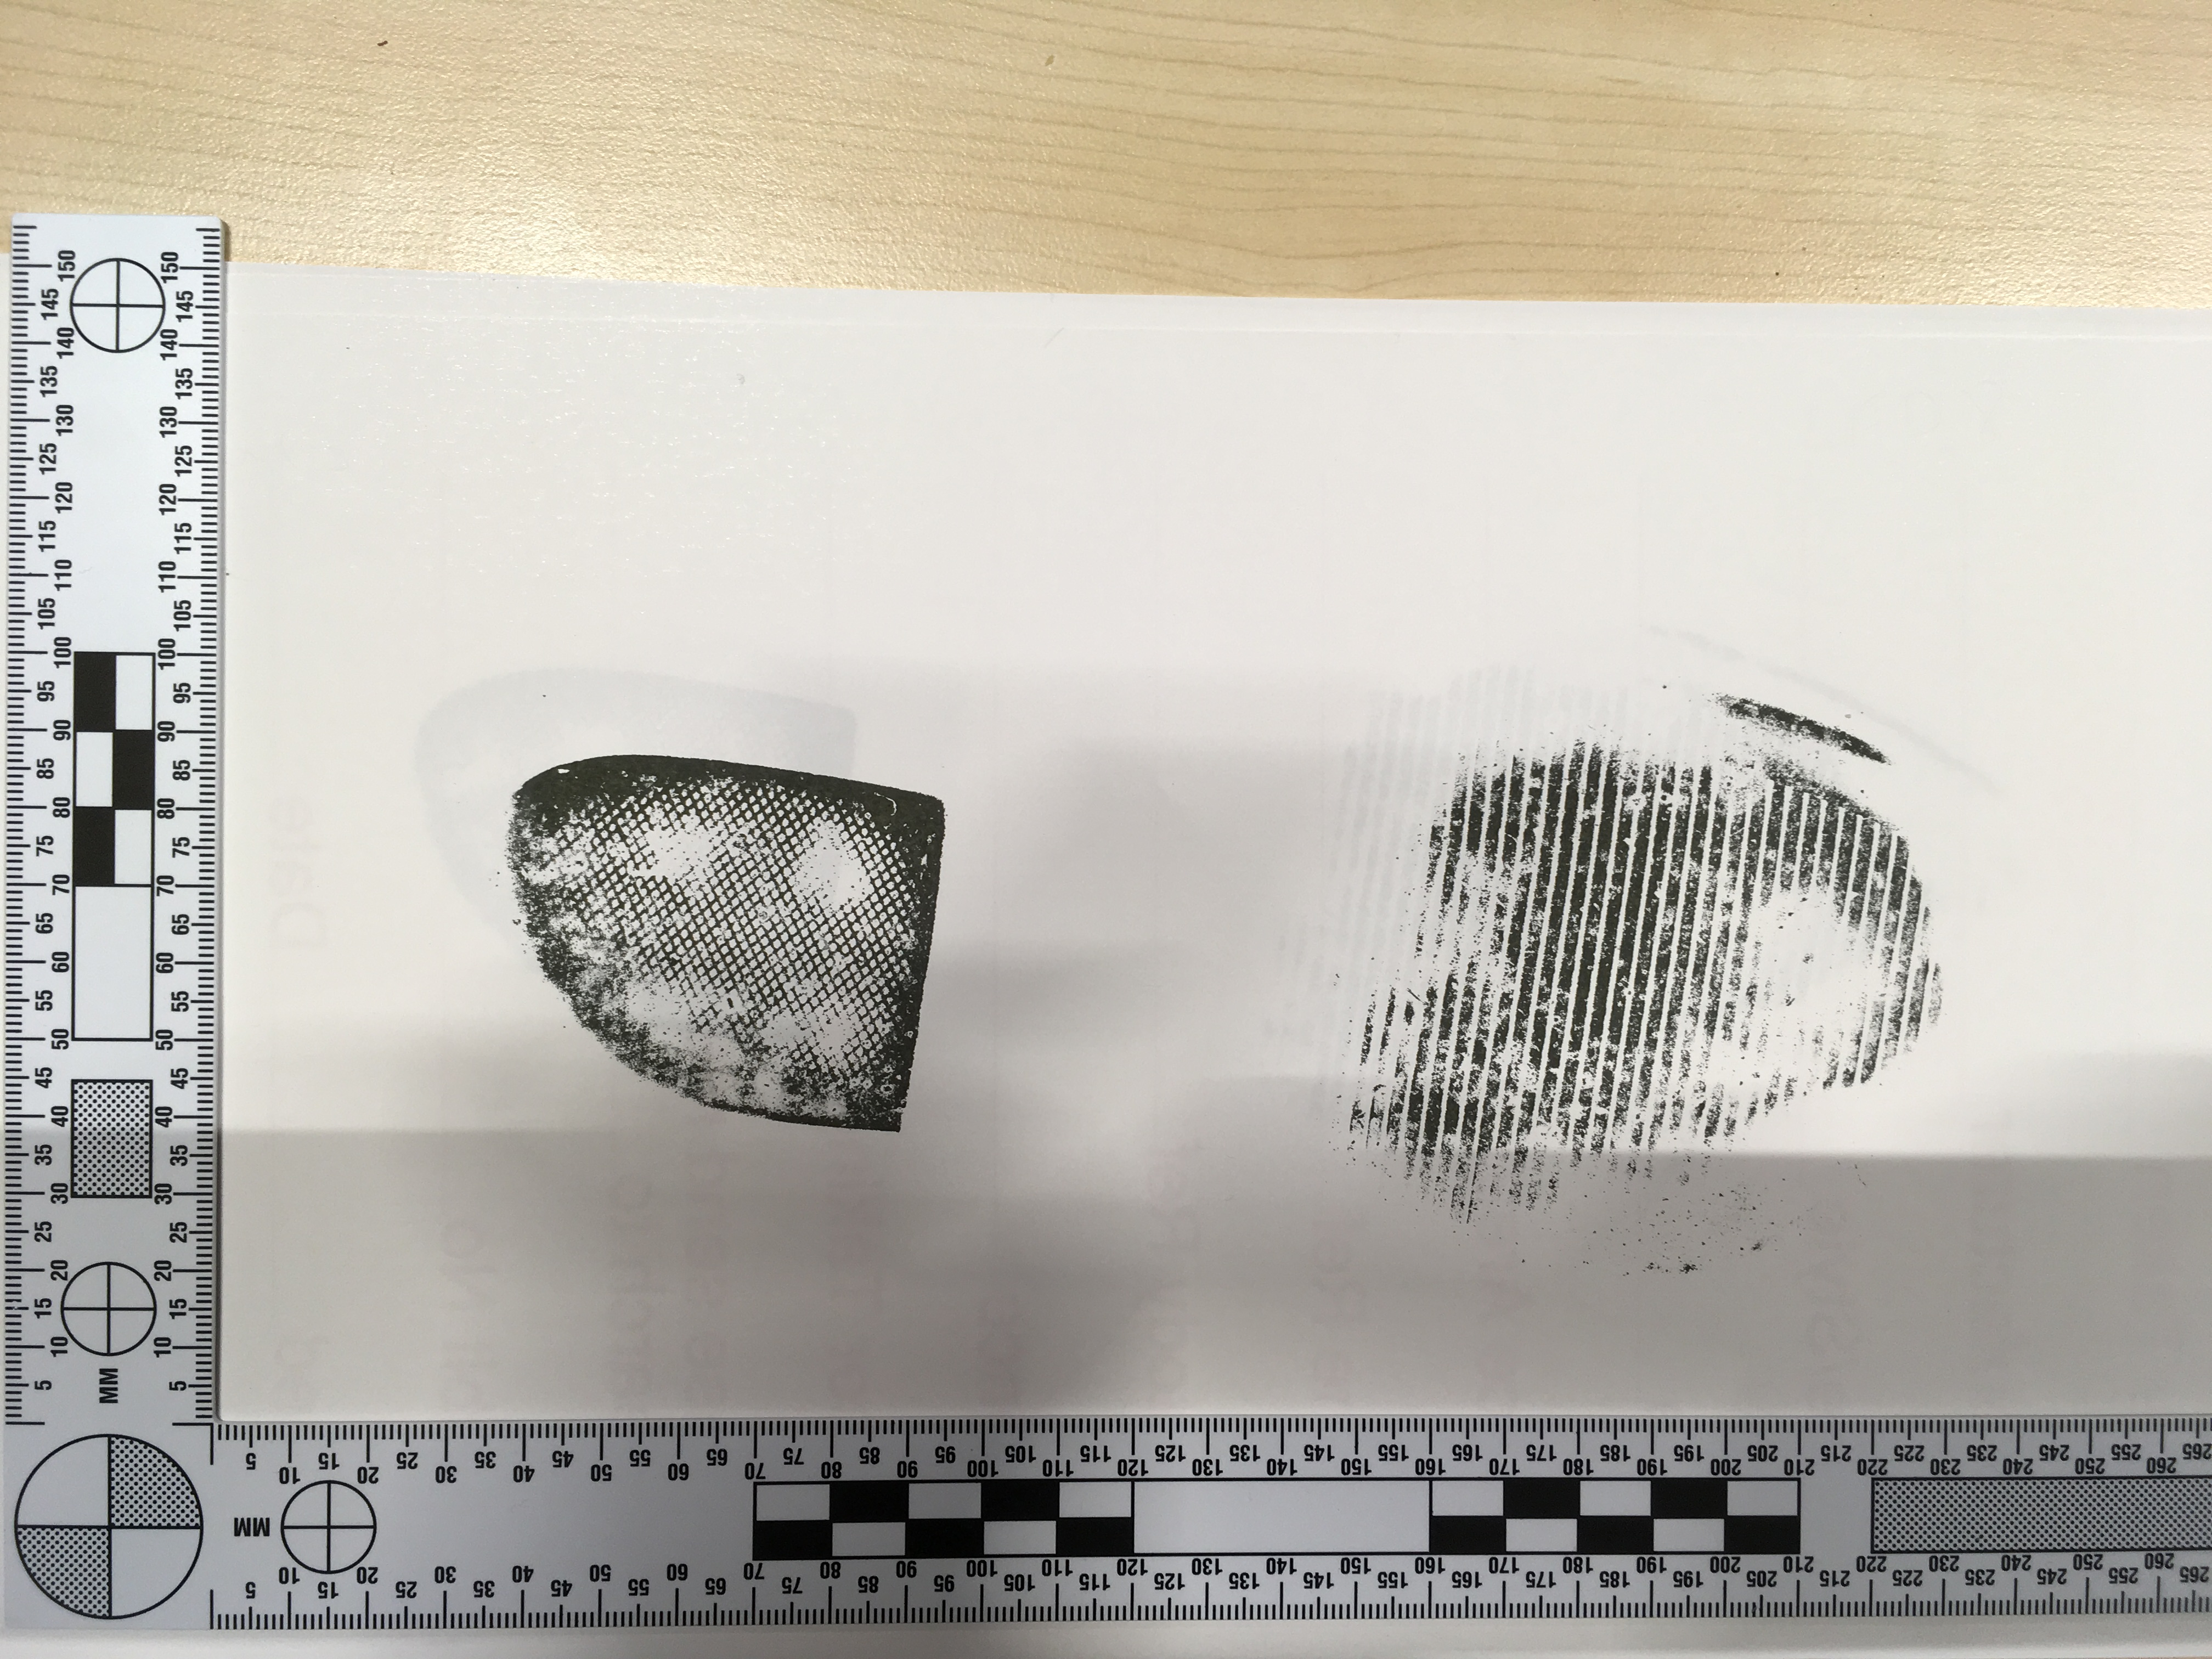footwear: (498, 688, 1968, 1276)
